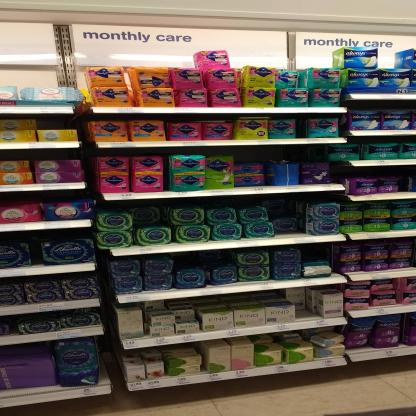Void: (269, 197, 306, 234), (234, 150, 326, 160), (173, 255, 233, 269), (294, 286, 317, 318), (134, 203, 168, 224), (301, 248, 328, 261)
